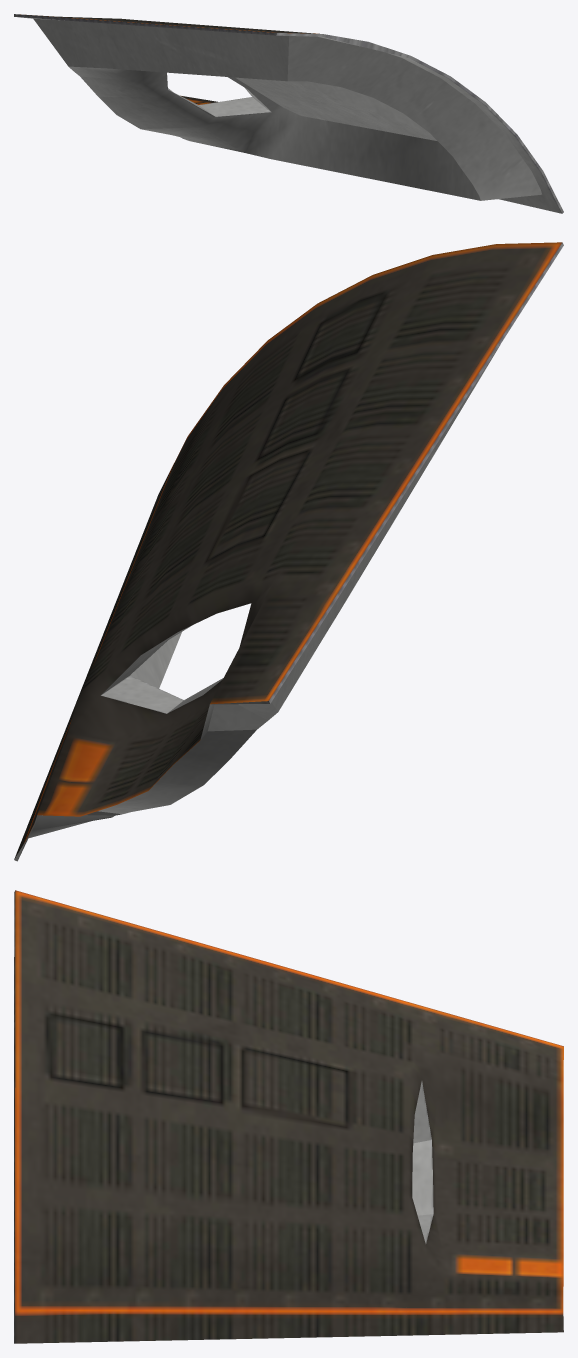
Rendered from capsule_door_right.fbx.
3 renders of one model, top to bottom at view 1: azimuth 30°, elevation 25°; view 2: azimuth 150°, elevation 25°; view 3: azimuth 270°, elevation 25°, orthographic. The views are drawn at different scales.
Visible parts, largest first — view 1: pilot_door; view 2: pilot_door; view 3: pilot_door.
Part boxes in pixels (left/top/right/bottom): pilot_door: left=14, top=14, right=563, bottom=213; pilot_door: left=14, top=242, right=563, bottom=861; pilot_door: left=14, top=890, right=563, bottom=1343.
Size of the model in its own units: 0.9479 by 0.8788 by 1.23.
